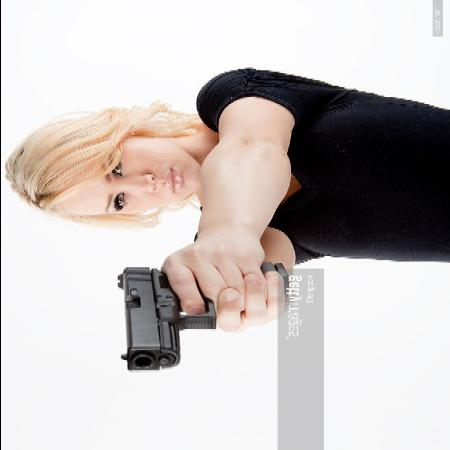Pistol: (108, 258, 220, 376)
